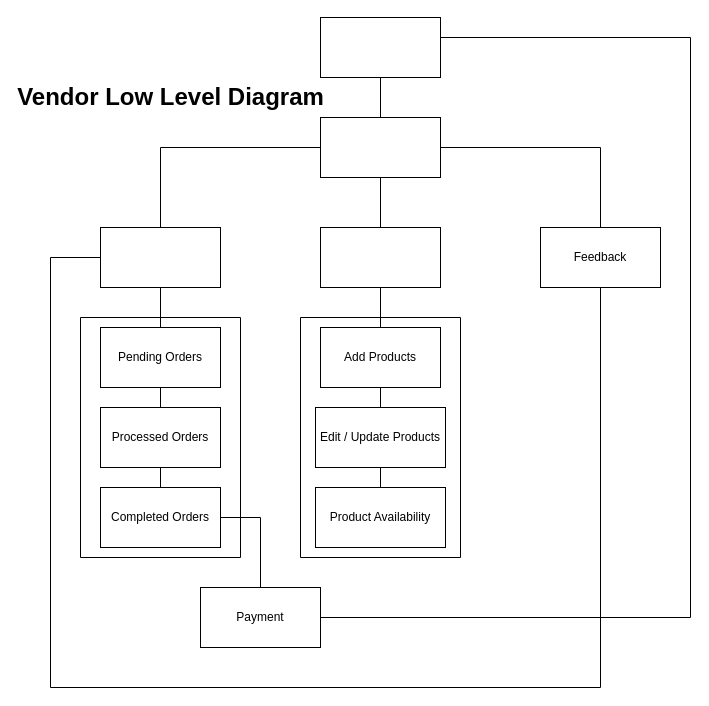
Image size: 709x706. Some labels were removed from this diagram. The centre of each missing label's shape, as x and y in pixels:
Admin / Vendor: the point at 380,47
Login: the point at 380,147
Orders: the point at 160,257
Products: the point at 380,257
